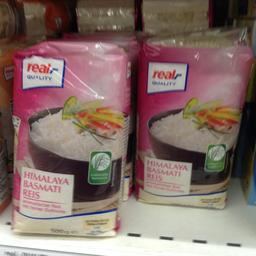rice: (10, 42, 130, 238), (132, 34, 252, 207)
